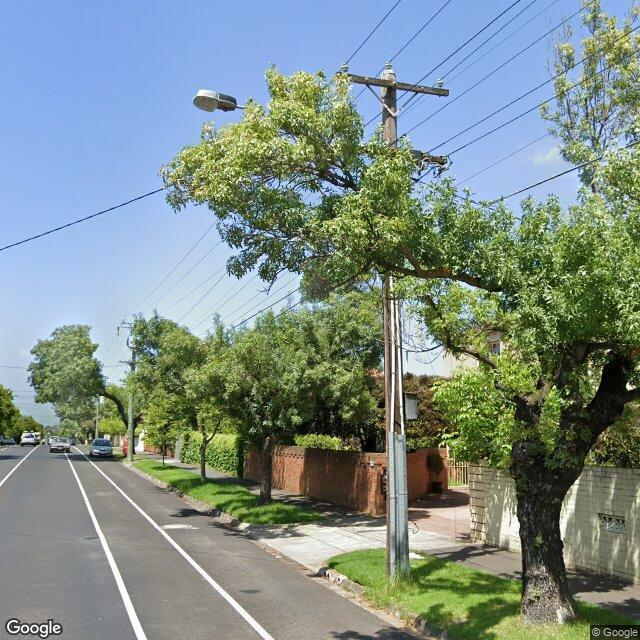HV-transmission: (341, 61, 444, 88)
crossarm: (336, 72, 449, 96), (360, 142, 446, 164), (119, 360, 141, 364), (118, 326, 133, 328), (122, 322, 136, 324)
streetlight: (192, 88, 245, 112)
timber-pole: (381, 70, 410, 581), (128, 348, 136, 461)
